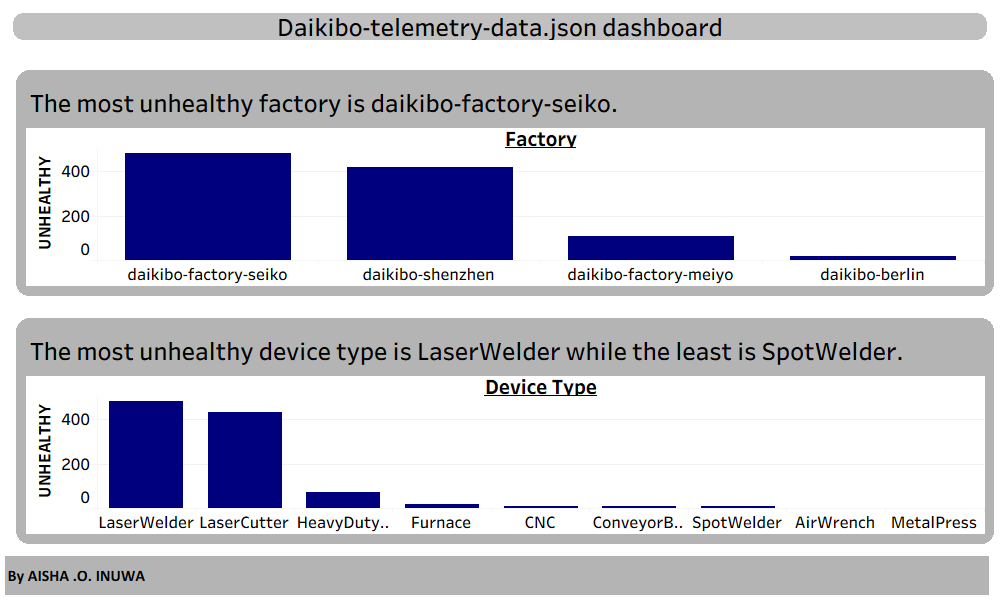

Layout of this report page (visuals, bound fields, positions):
{"tool":"tableau","page":{"name":"Daikibo-telemetry DASHBOARD","canvas":[1000,600],"ordinal":0},"visuals":[{"type":"text","box":[0,0,1000,53]},{"type":"worksheet","title":"Down Time per Factory","mark":"Automatic","rows":["Calculation_1462931984359424"],"cols":["factory"],"box":[5,59,1000,248]},{"type":"worksheet","title":"Down Time per Device Type","mark":"Automatic","rows":["Calculation_1462931984359424"],"cols":["deviceType"],"box":[5,307,1000,248]},{"type":"text","box":[5,556,984,39]}]}

Visuals, with their boxes in screenshot pixels (x1, y1, x2, y2), scaled from the page's 1000x600 canvas onto the 1000x600 screenshot:
text: 0,0,999,53
"Down Time per Factory" worksheet: 5,59,999,307
"Down Time per Device Type" worksheet: 5,307,999,555
text: 5,556,989,595
